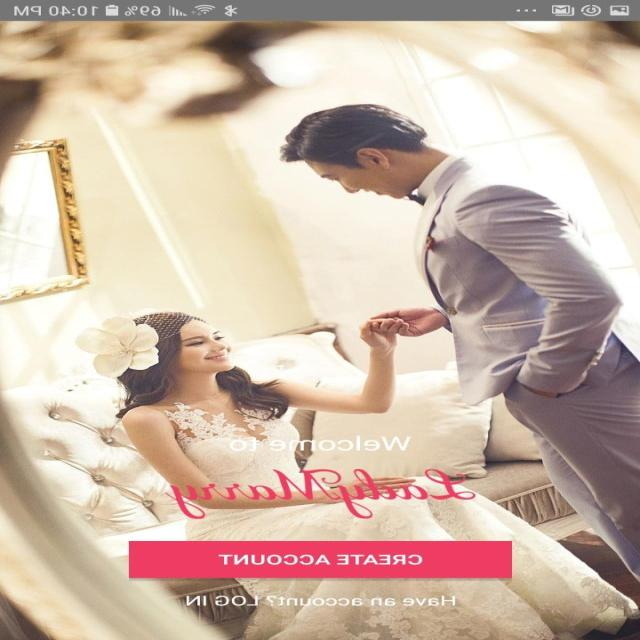BackgroundImage: (1, 21, 640, 639)
Image: (166, 468, 477, 518)
Text: (187, 595, 457, 606), (229, 435, 412, 451)
TextButton: (129, 541, 512, 578)
